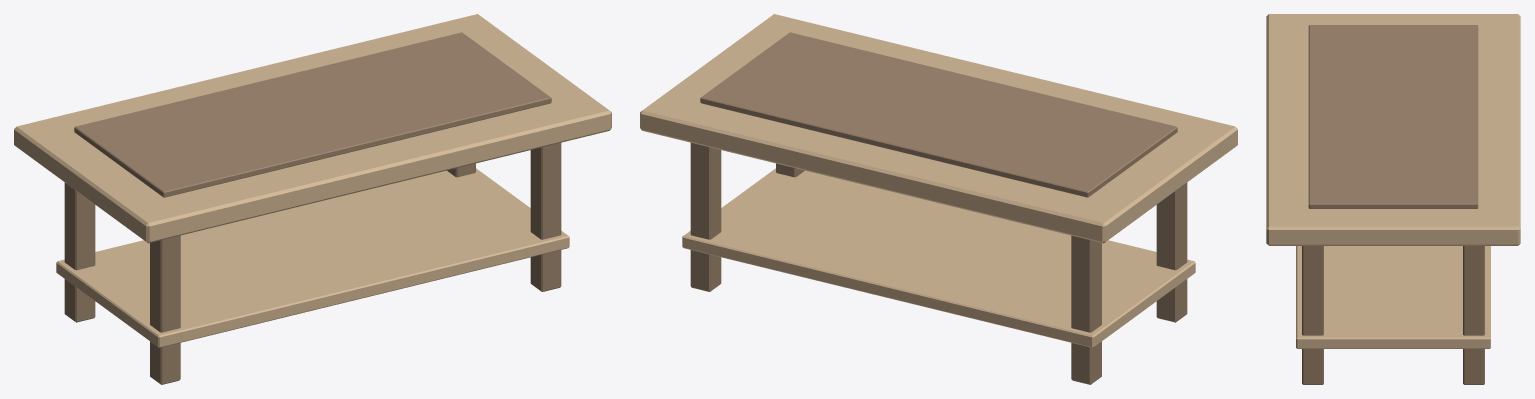
File: model-lounge-furniture-coffee-table-ebbe2ad185f9.glb
3 views of the same model, side by side, from view 1: azimuth 30°, elevation 25°; view 2: azimuth 150°, elevation 25°; view 3: azimuth 270°, elevation 25° (orthographic). The views are drawn at different scales.
Parts seen in each view (by area): view 1: coffee-table-rect; view 2: coffee-table-rect; view 3: coffee-table-rect.
Boxes of the visible parts, x1=… form: coffee-table-rect: x1=14, y1=14, x2=611, y2=384; coffee-table-rect: x1=640, y1=14, x2=1237, y2=384; coffee-table-rect: x1=1266, y1=14, x2=1520, y2=384.
Size of the model in its own units: 1.2 by 0.466 by 0.6001.
